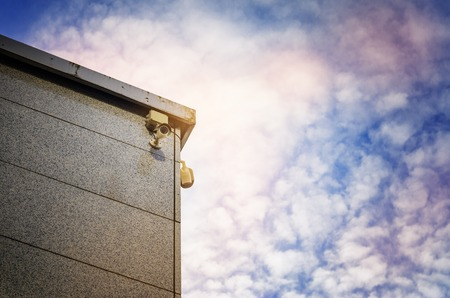Muro: (5, 75, 181, 298)
